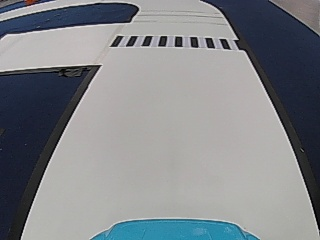CrossWalk: (109, 33, 241, 51)
